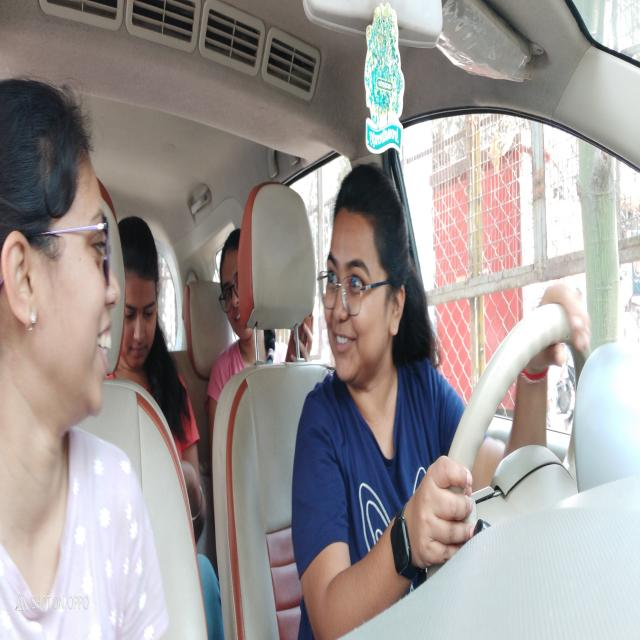LeftRight: (1, 125, 125, 418), (324, 172, 405, 374)
person: (126, 249, 166, 362), (218, 233, 243, 338)
talking: (92, 319, 116, 368), (333, 326, 358, 358)
